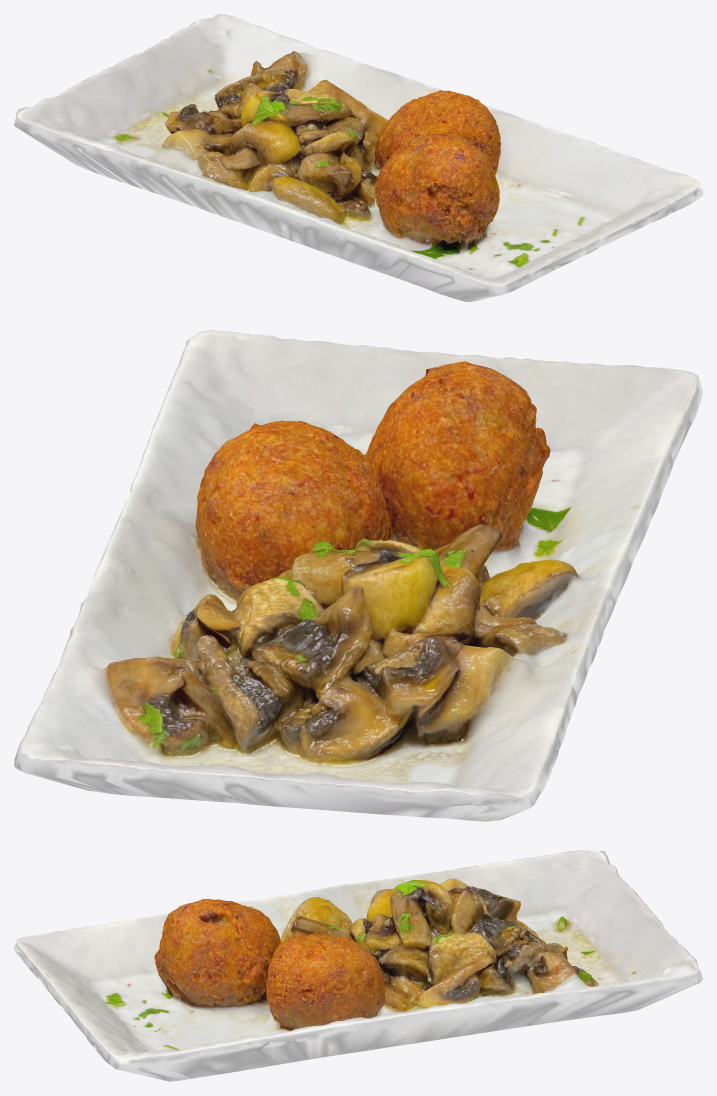
Rendered from PasteisAlheiraCcogumelos.glb.
The picture shows the model from 3 angles, top to bottom: view 1: azimuth 30°, elevation 25°; view 2: azimuth 150°, elevation 25°; view 3: azimuth 270°, elevation 25°; orthographic projection. The views are drawn at different scales.
Parts seen in each view (by area): view 1: Mesh_0; view 2: Mesh_0; view 3: Mesh_0.
Boxes of the visible parts, x1=… form: Mesh_0: x1=14, y1=14, x2=702, y2=301; Mesh_0: x1=14, y1=330, x2=702, y2=821; Mesh_0: x1=14, y1=850, x2=702, y2=1081.
Bounding box in the file's own units: 0.8183 × 0.1762 × 1.11.
1 material, 1 textured.
